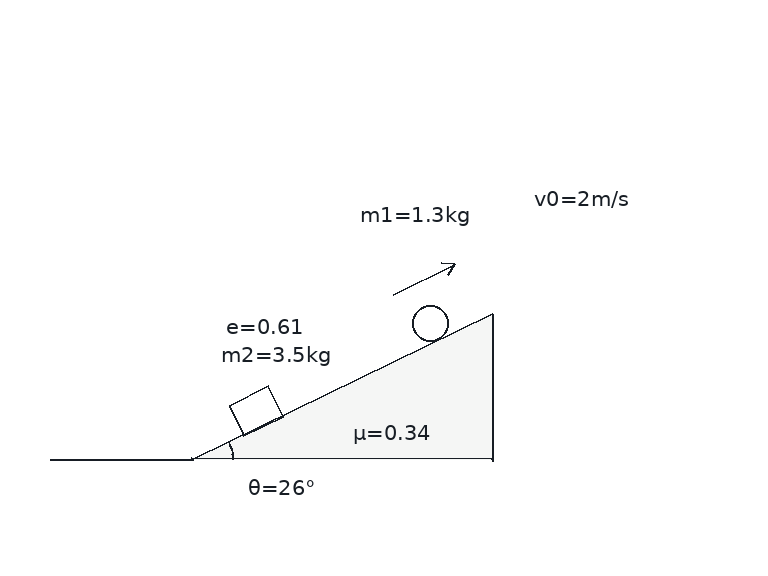ball: (410, 303, 450, 343)
block: (227, 384, 285, 437)
ramp: (191, 311, 493, 461)
